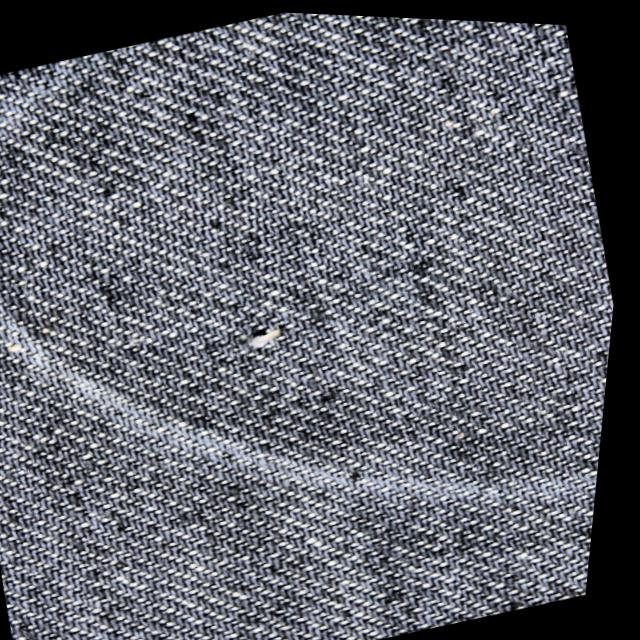Hole: (221, 296, 328, 365)
